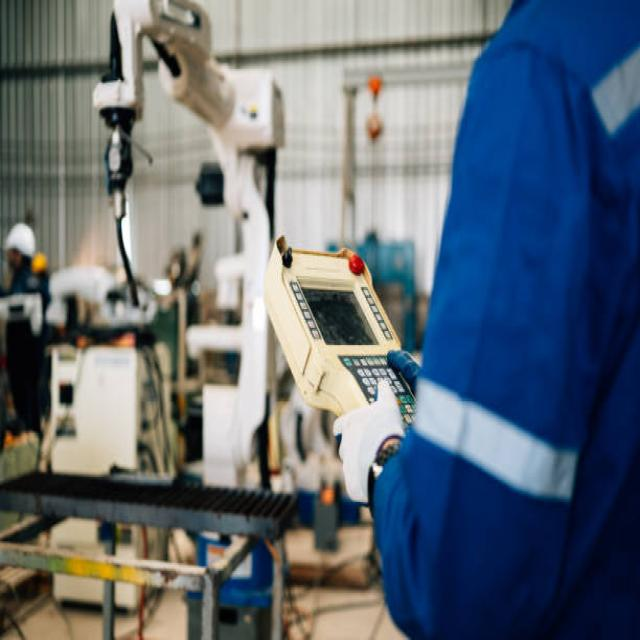Robotic-arm: (92, 1, 284, 494)
